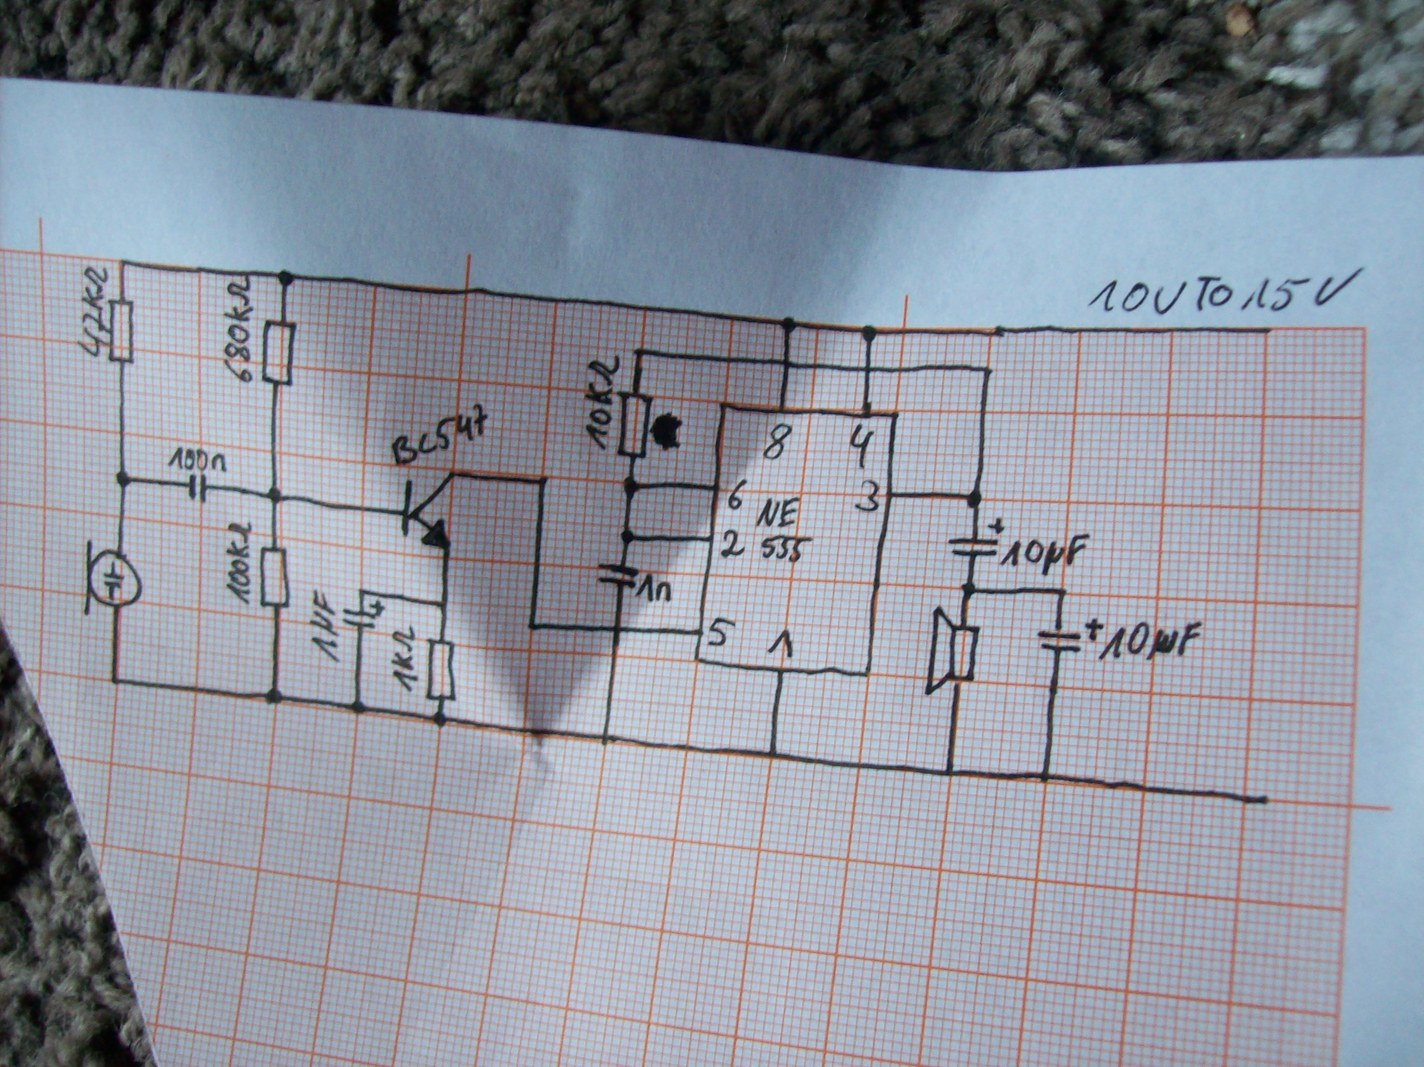capacitor.polarized: (1036, 616, 1104, 655), (947, 517, 1005, 557), (342, 599, 387, 630)
capacitor.unpolarized: (596, 559, 640, 590), (186, 472, 210, 504)
crossover: (779, 355, 795, 371), (609, 622, 625, 637), (860, 362, 875, 375)
integrated_cricuit.ne555: (694, 400, 900, 681)
junction: (623, 474, 640, 499), (859, 324, 879, 343), (965, 488, 983, 509), (264, 687, 283, 706), (276, 268, 295, 287), (779, 314, 797, 334), (431, 709, 449, 729), (266, 486, 283, 505), (350, 698, 367, 716), (117, 470, 133, 489), (618, 528, 635, 546), (961, 581, 977, 599), (1036, 769, 1053, 785), (765, 748, 781, 763), (943, 764, 959, 780), (979, 362, 996, 377), (630, 346, 648, 359), (436, 597, 452, 611), (536, 474, 551, 488), (599, 731, 613, 746), (117, 256, 130, 270), (109, 674, 122, 687), (355, 585, 369, 599), (525, 620, 539, 632), (1055, 586, 1069, 599)
microphone: (83, 537, 145, 616)
resistor: (616, 389, 654, 461), (261, 317, 298, 388), (258, 544, 292, 611), (424, 635, 458, 703), (106, 297, 138, 365)
speaker: (924, 604, 981, 696)
terminal: (1251, 790, 1277, 811), (1257, 321, 1278, 338)
text: (1086, 265, 1366, 318), (390, 401, 488, 466), (1096, 620, 1203, 664), (1000, 532, 1092, 578), (756, 495, 815, 565), (221, 275, 255, 386), (584, 354, 620, 453), (76, 265, 108, 358), (225, 519, 253, 609), (309, 588, 342, 665), (389, 623, 421, 694), (164, 445, 227, 475), (635, 572, 674, 605), (848, 423, 876, 470), (762, 421, 794, 462), (765, 628, 797, 664), (851, 477, 882, 514), (705, 616, 737, 648), (719, 528, 747, 560), (725, 477, 750, 512)
transistor: (399, 470, 457, 551)
